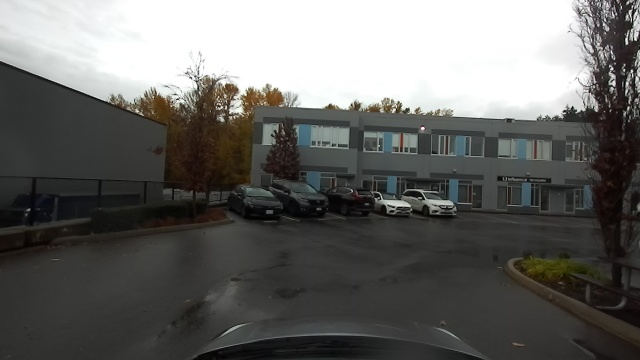car: (229, 184, 284, 222), (286, 184, 331, 221), (335, 185, 374, 221), (413, 189, 459, 219), (378, 189, 409, 220)
